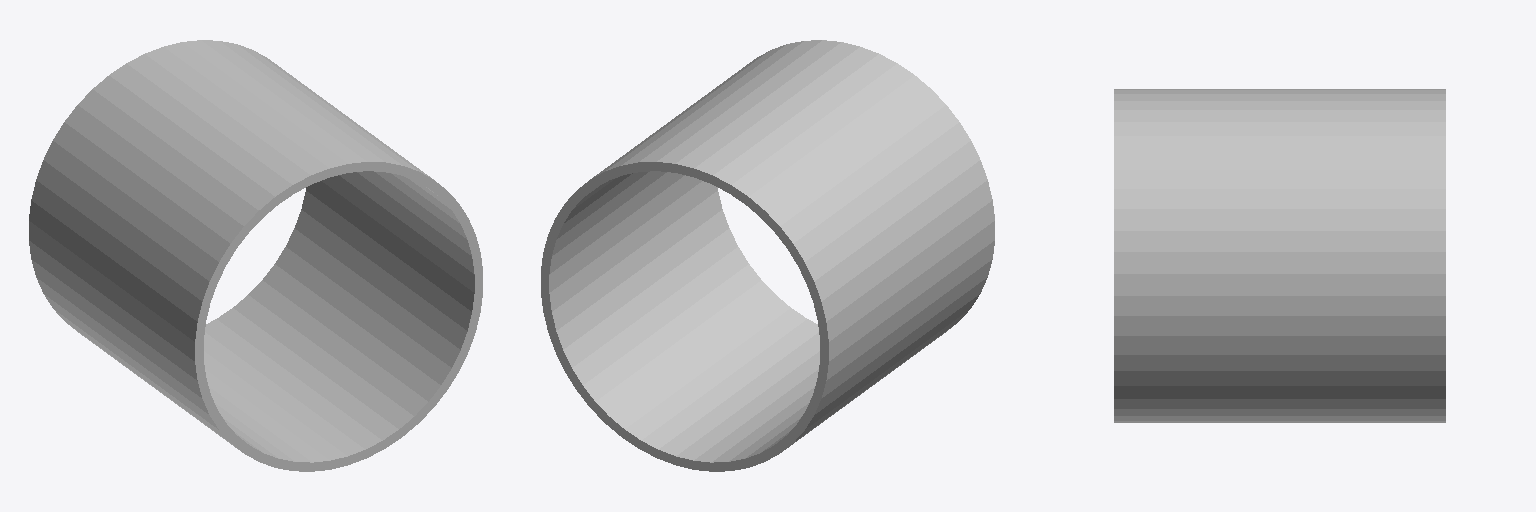
Rendered from tunnel.obj.
3 views of the same model, side by side, from view 1: azimuth 30°, elevation 25°; view 2: azimuth 150°, elevation 25°; view 3: azimuth 270°, elevation 25° (orthographic).
Parts seen in each view (by area): view 1: tube; view 2: tube; view 3: tube.
Boxes of the visible parts, <box> form: tube: <box>29,40,482,471</box>; tube: <box>541,40,994,471</box>; tube: <box>1114,89,1445,422</box>.
Bounding box in the file's own units: 8 × 8 × 8.